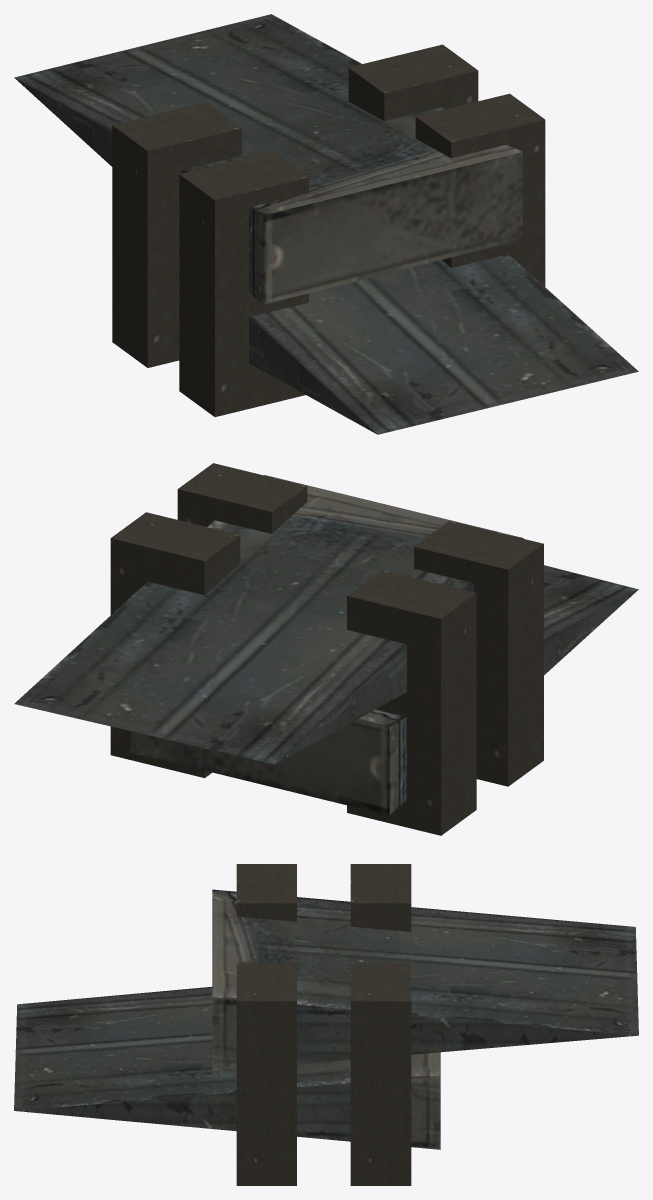
File: t6_attach_fastmag_scar_world_LOD2.obj
The picture shows the model from 3 angles, top to bottom: view 1: azimuth 30°, elevation 25°; view 2: azimuth 150°, elevation 25°; view 3: azimuth 270°, elevation 25°; orthographic projection. The views are drawn at different scales.
Parts seen in each view (by area): view 1: mtl_t6_wpn_ar_scarh_camo1; view 2: mtl_t6_wpn_ar_scarh_camo1; view 3: mtl_t6_wpn_ar_scarh_camo1.
Boxes of the visible parts, x1,y1,x2,y2 form: mtl_t6_wpn_ar_scarh_camo1: [14, 14, 638, 434]; mtl_t6_wpn_ar_scarh_camo1: [14, 463, 638, 835]; mtl_t6_wpn_ar_scarh_camo1: [14, 864, 638, 1185].
Bounding box in the file's own units: 10.06 × 6.31 × 19.38.
